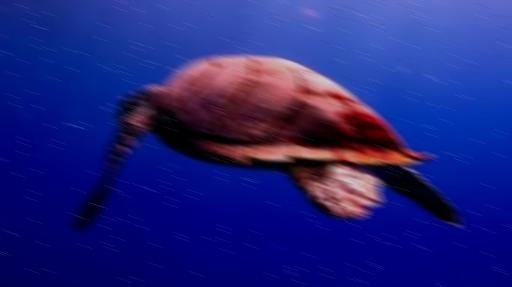Fish: (75, 55, 458, 229)
